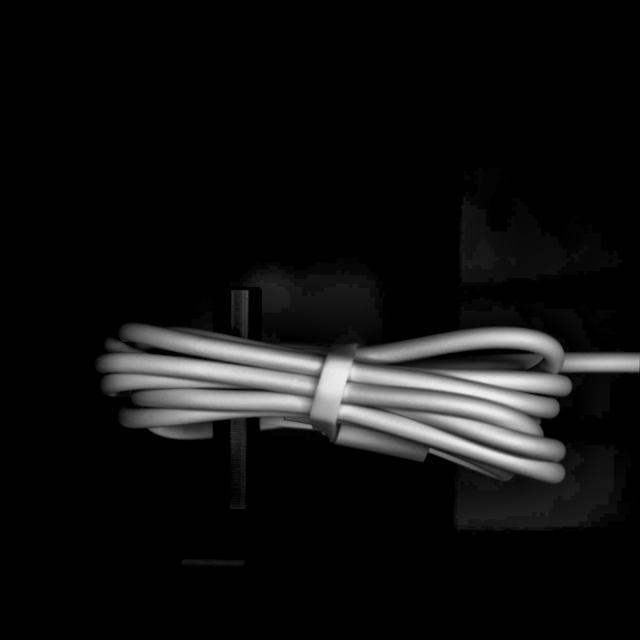Cable: (84, 313, 640, 487)
